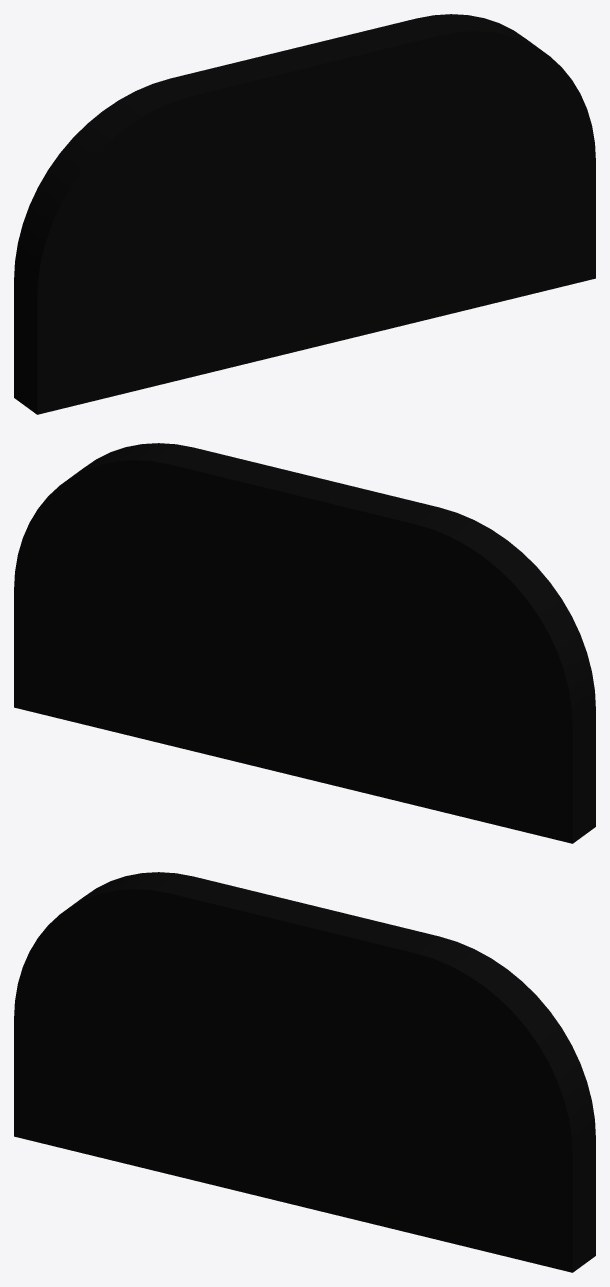
Rendered from cubierta central.fbx.
3 renders of one model, top to bottom at view 1: azimuth 30°, elevation 25°; view 2: azimuth 150°, elevation 25°; view 3: azimuth 330°, elevation 25°, orthographic.
Visible parts, largest first — view 1: Cube.002; view 2: Cube.002; view 3: Cube.002.
Boxes of the visible parts, <box> form: Cube.002: <box>14,14,595,414</box>; Cube.002: <box>14,443,595,843</box>; Cube.002: <box>14,872,595,1272</box>.
Size of the model in its own units: 416 by 200 by 30.
1 material, 1 textured.
